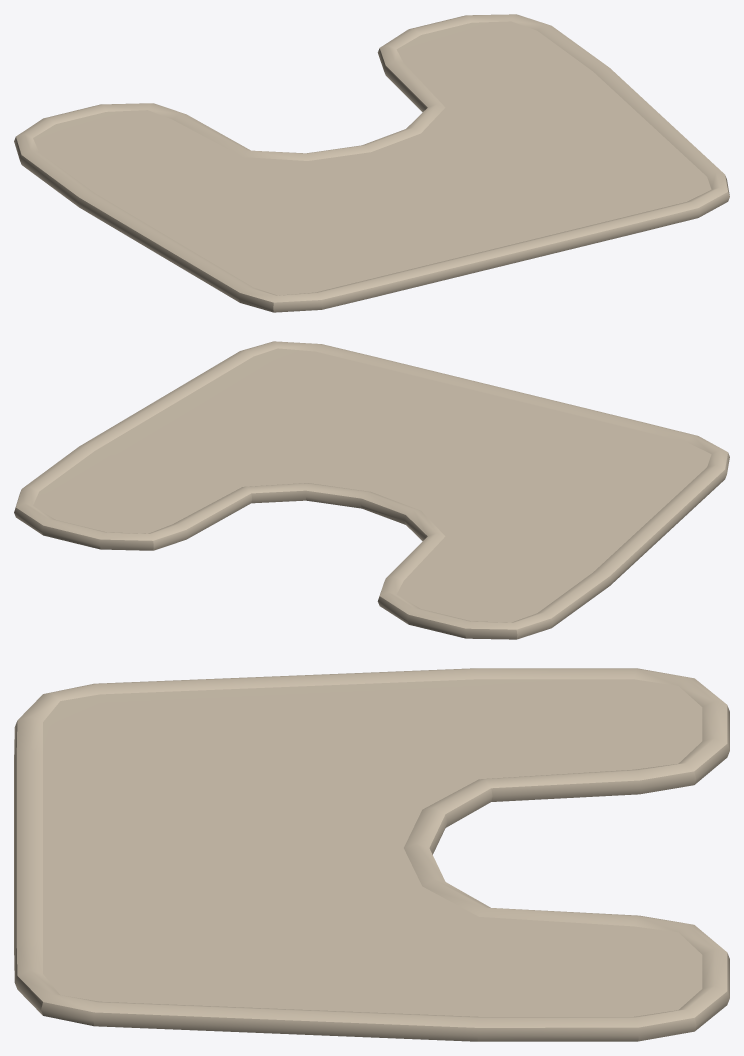
The model's file is rugs_31_1_L.fbx.
3 renders of one model, top to bottom at view 1: azimuth 30°, elevation 25°; view 2: azimuth 150°, elevation 25°; view 3: azimuth 270°, elevation 25°, orthographic. The views are drawn at different scales.
Visible parts, largest first — view 1: rugs_31_1_L; view 2: rugs_31_1_L; view 3: rugs_31_1_L.
Boxes of the visible parts, x1,y1,x2,y2 form: rugs_31_1_L: (14,14,729,312); rugs_31_1_L: (14,341,729,639); rugs_31_1_L: (14,668,729,1041).
Bounding box in the file's own units: 14.89 × 0.3522 × 12.44.
